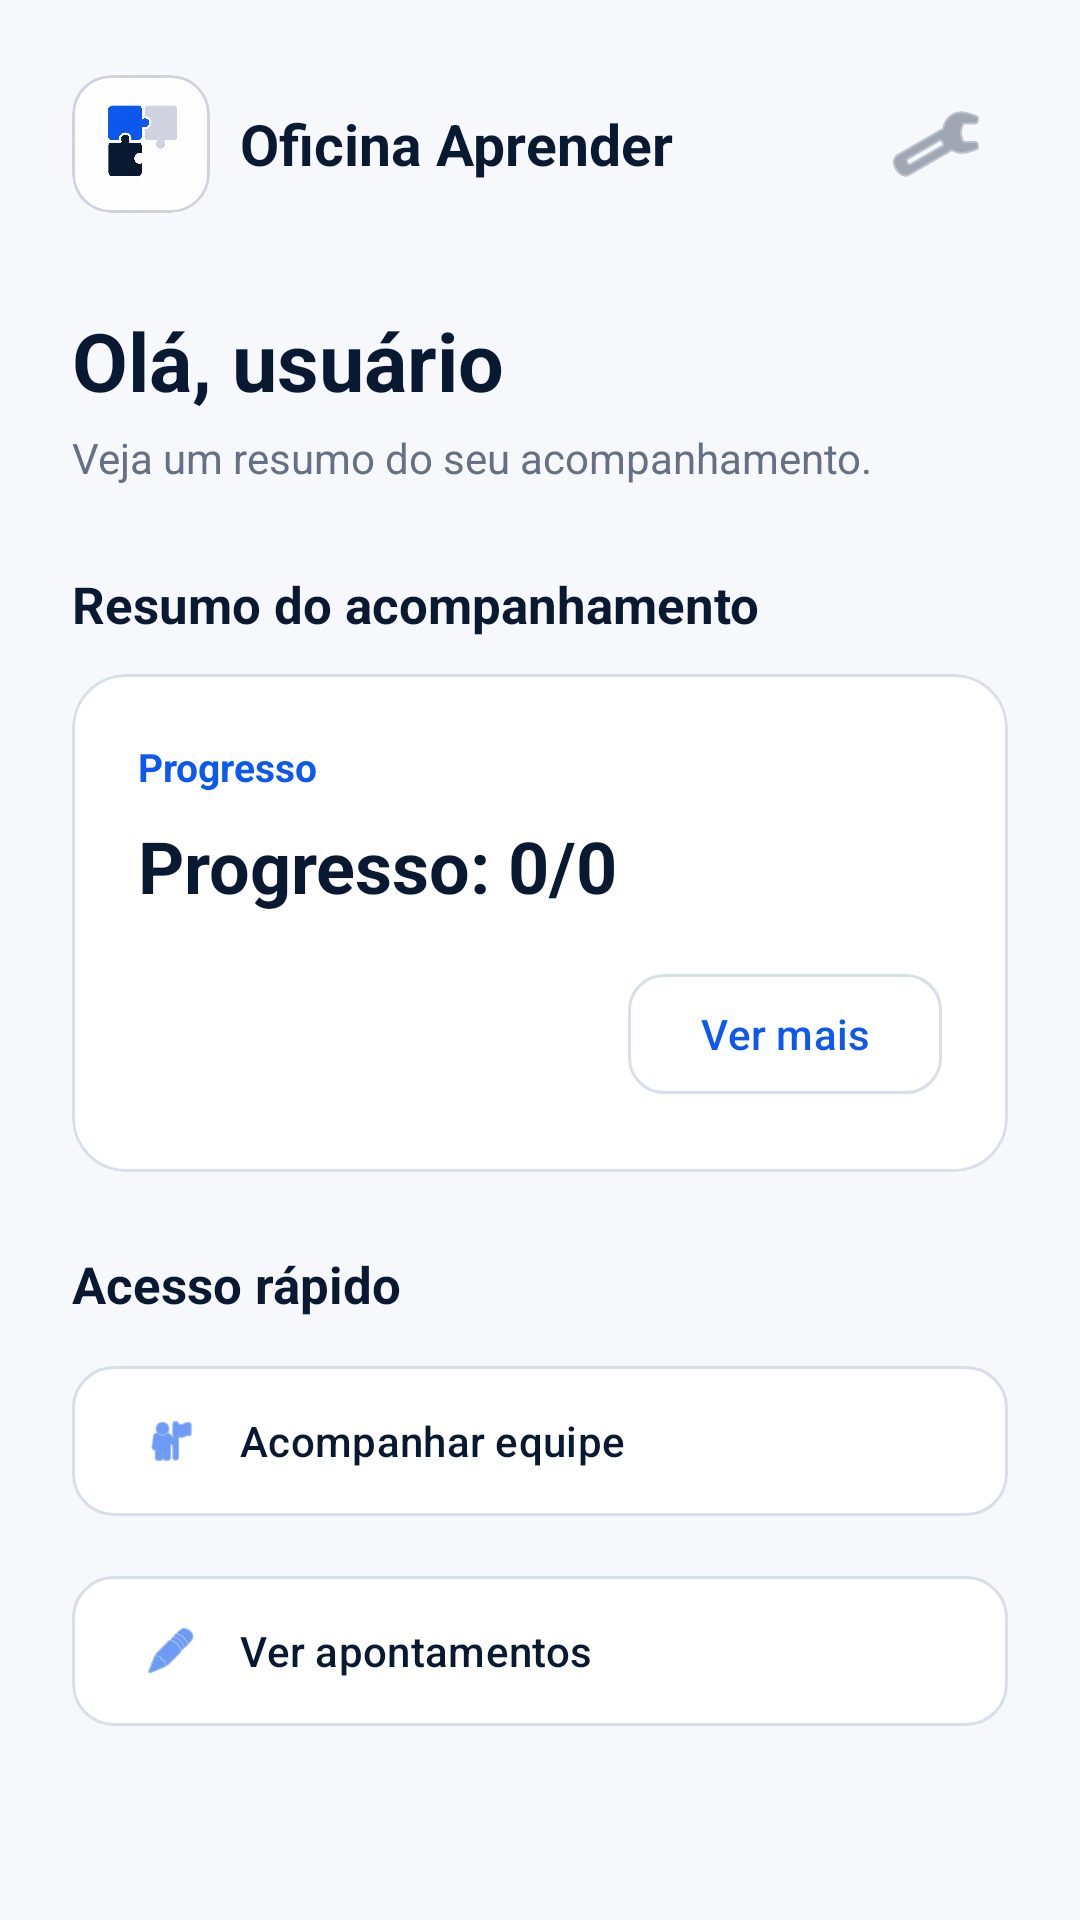

Icon click points for this 1080px×1920px phone screenshot, format [x,y]:
Configurações: [936,144]
